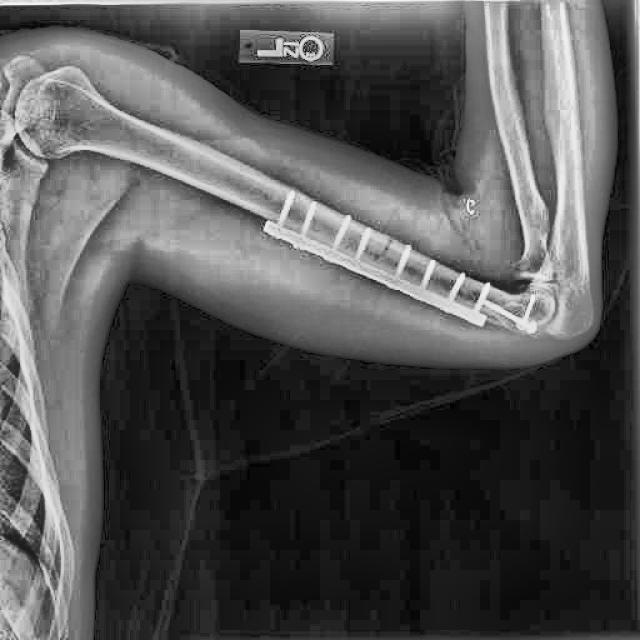humerus: (363, 229, 406, 269)
